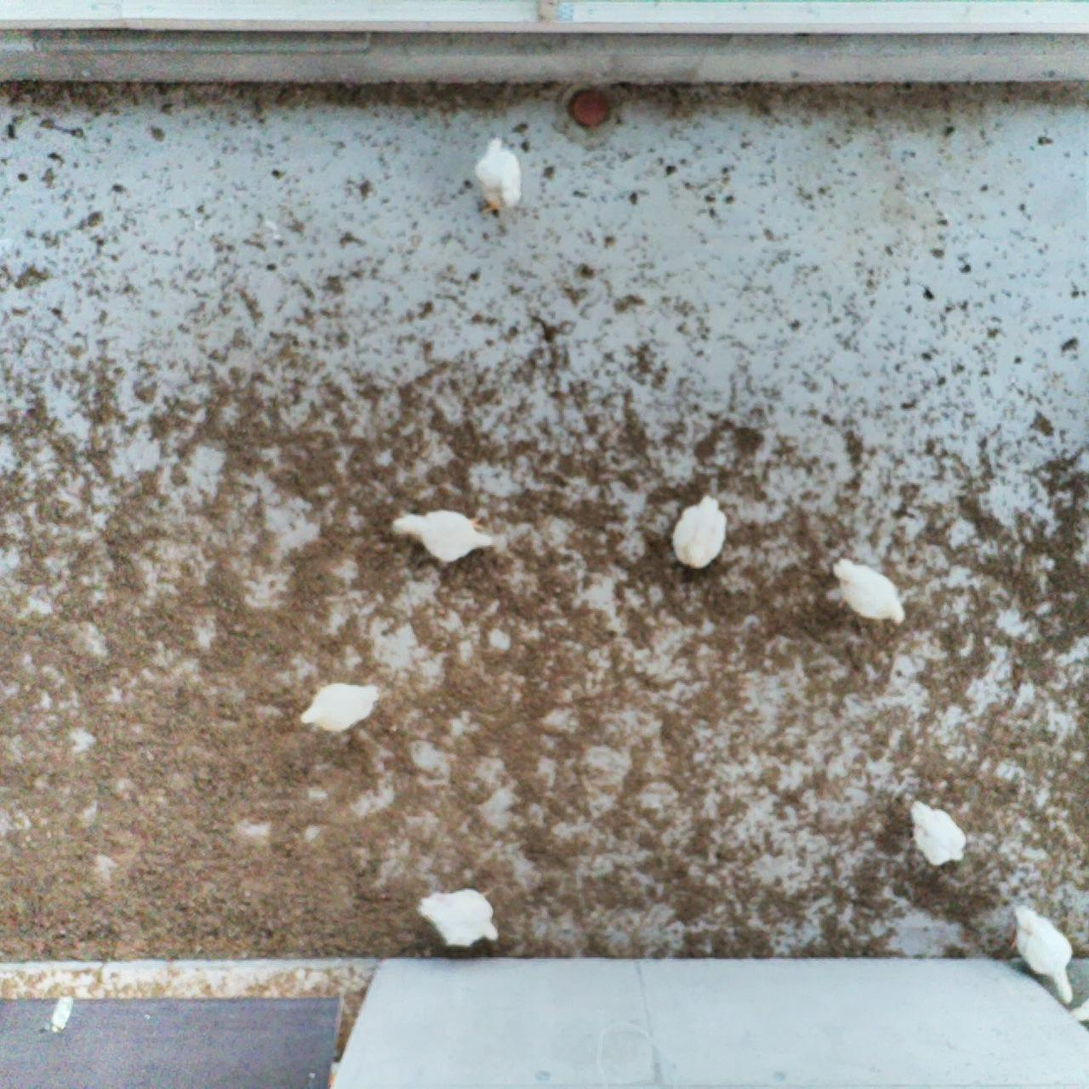chicken: (1011, 897, 1081, 1009), (388, 502, 495, 568), (827, 549, 911, 630), (412, 883, 507, 953), (667, 490, 732, 575), (906, 793, 972, 872), (296, 678, 384, 736), (472, 133, 527, 217)
